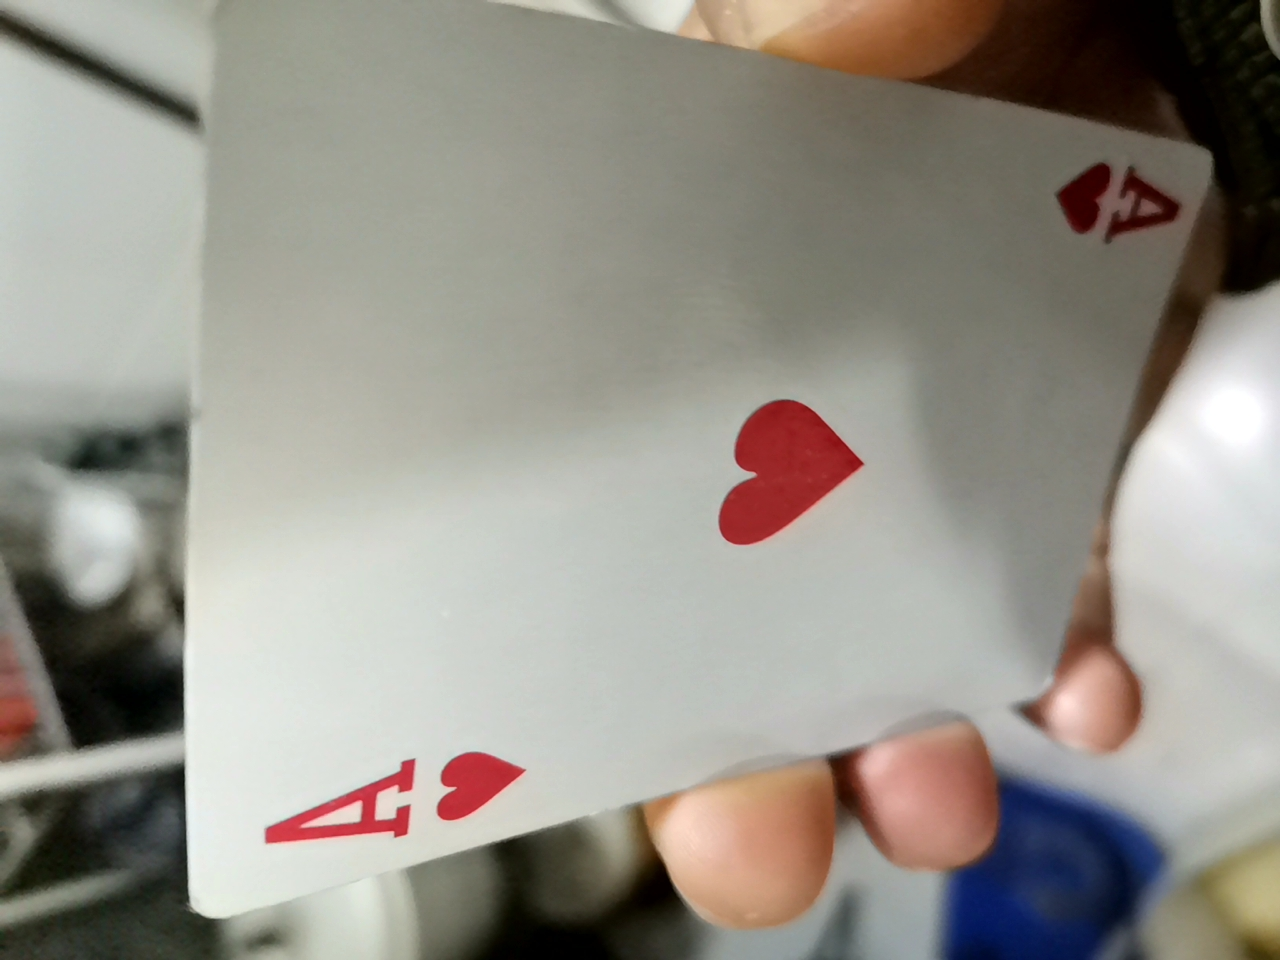hx a: (136, 64, 1226, 946)
